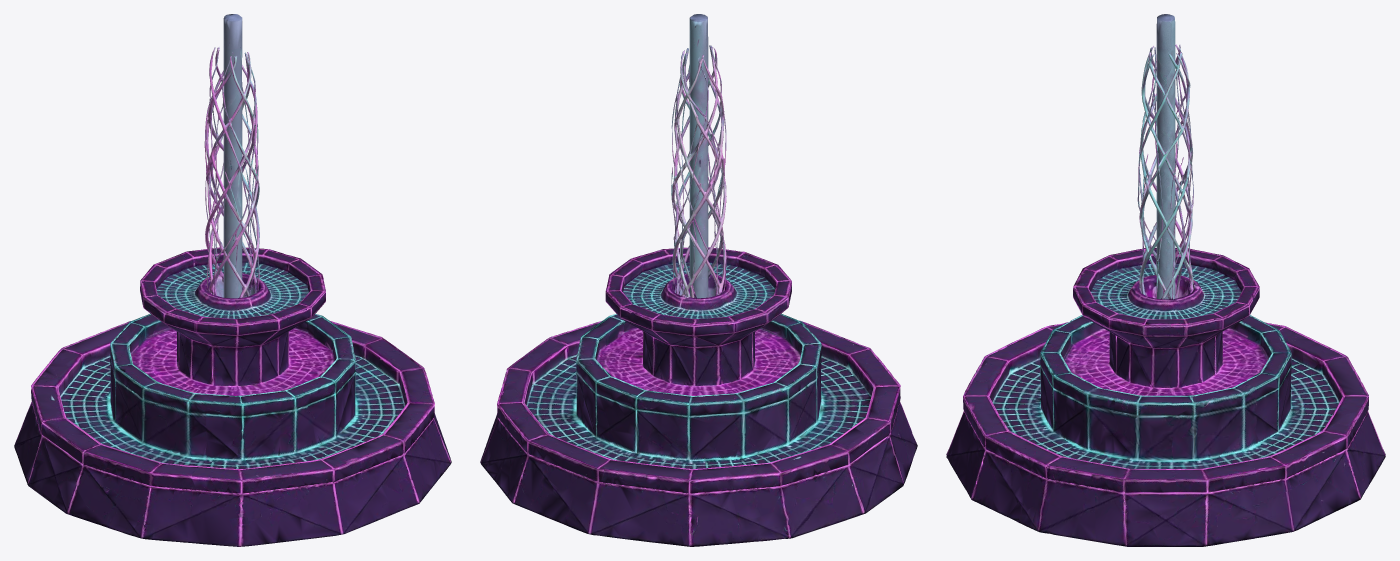
Rendered from fountain.glb.
3 renders of one model, left to right at view 1: azimuth 30°, elevation 25°; view 2: azimuth 150°, elevation 25°; view 3: azimuth 270°, elevation 25°, orthographic.
Visible parts, largest first — view 1: mesh_node; view 2: mesh_node; view 3: mesh_node.
Part boxes in pixels (x1,y1,x2,y2): mesh_node: (14, 14, 451, 546); mesh_node: (480, 14, 917, 546); mesh_node: (946, 14, 1385, 546).
Bounding box in the file's own units: 55511 × 62354 × 56600.
1 material, 1 textured.
